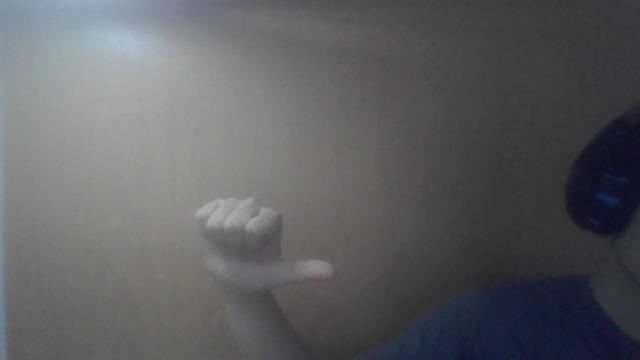left: (191, 186, 343, 302)
